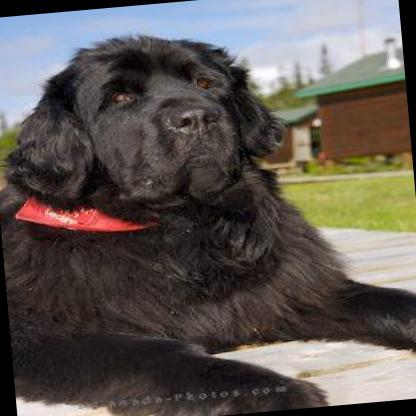Newfoundland: (0, 9, 416, 416)
